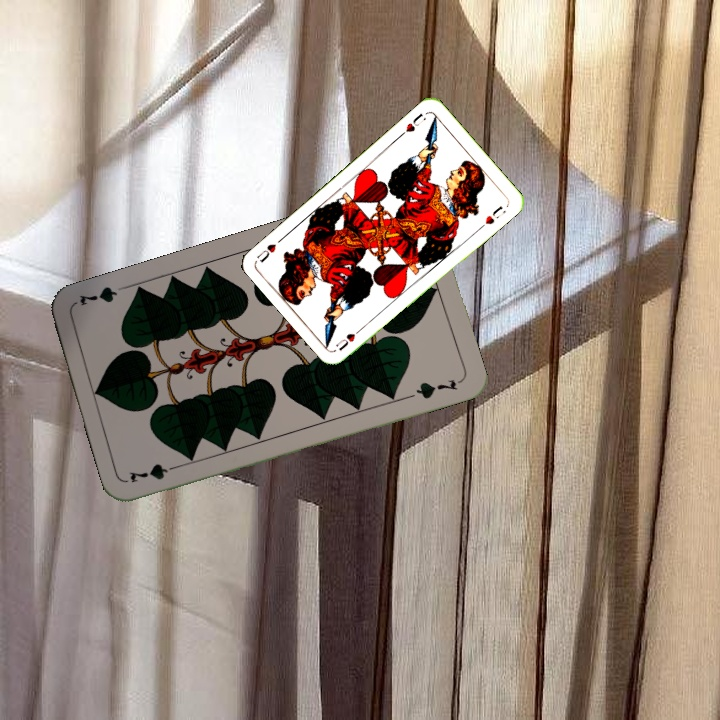G7: (125, 459, 184, 486)
HU: (331, 322, 366, 353), (396, 109, 426, 139)
